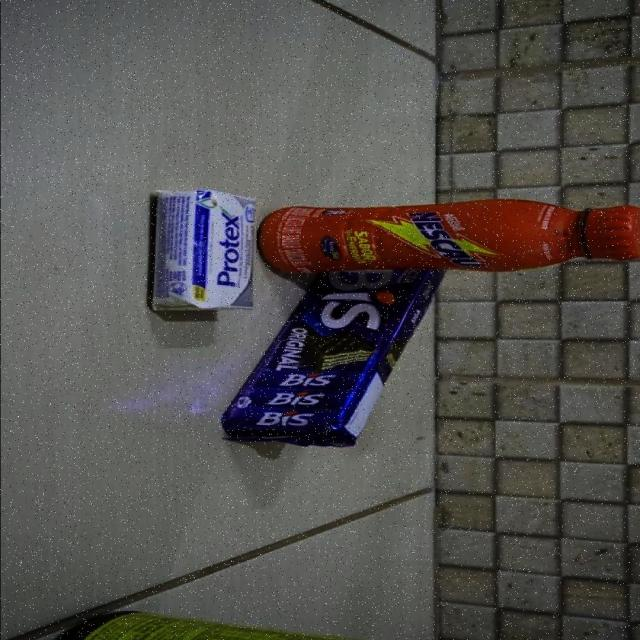ChocolateMilk: (252, 197, 640, 278)
ChocolatePowder: (42, 609, 452, 640)
Soap: (147, 186, 256, 312)
